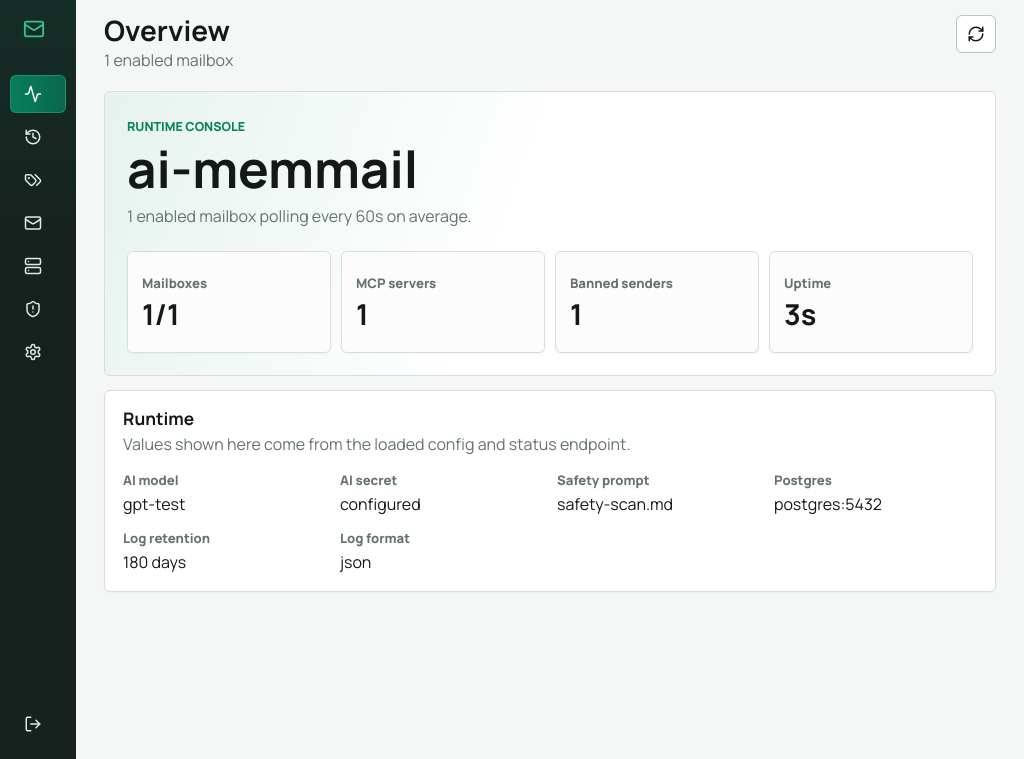
App rules › creates email processing rules from the rules tab
Click the button "Rules".
click(38, 180)  # box [10,161,66,199]
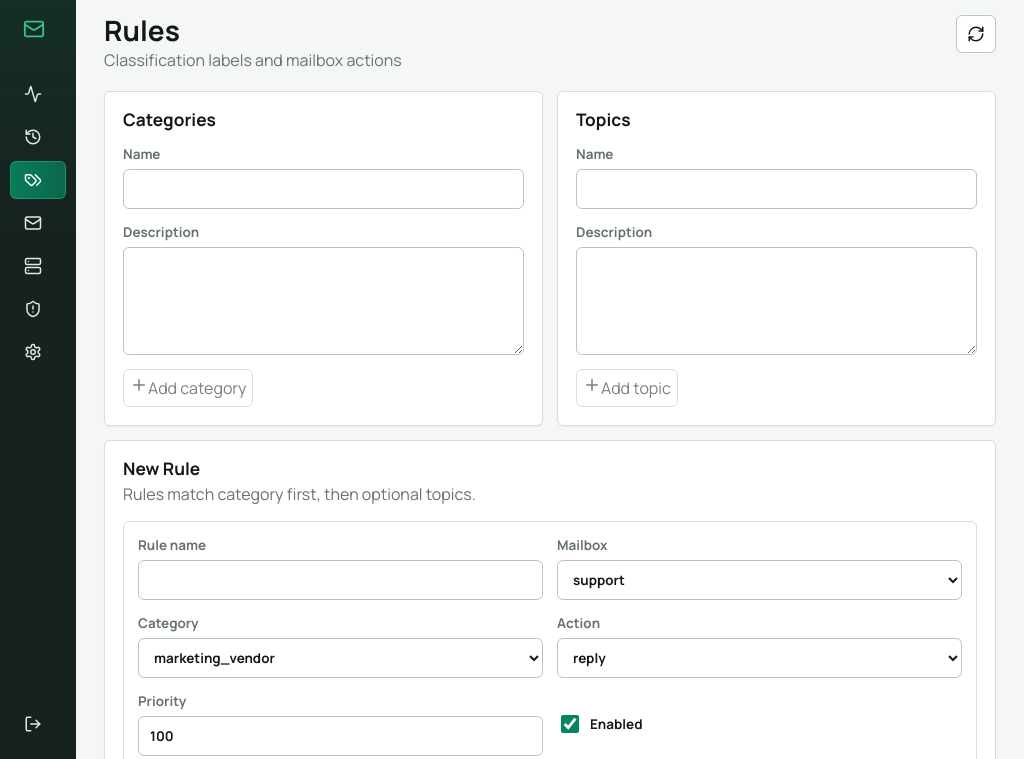
Type "Decline PR agency outreach" into the field labelled "Rule name".
click(340, 580); type("Decline PR agency outreach")  # box [138,560,543,600]
(page scrolled)
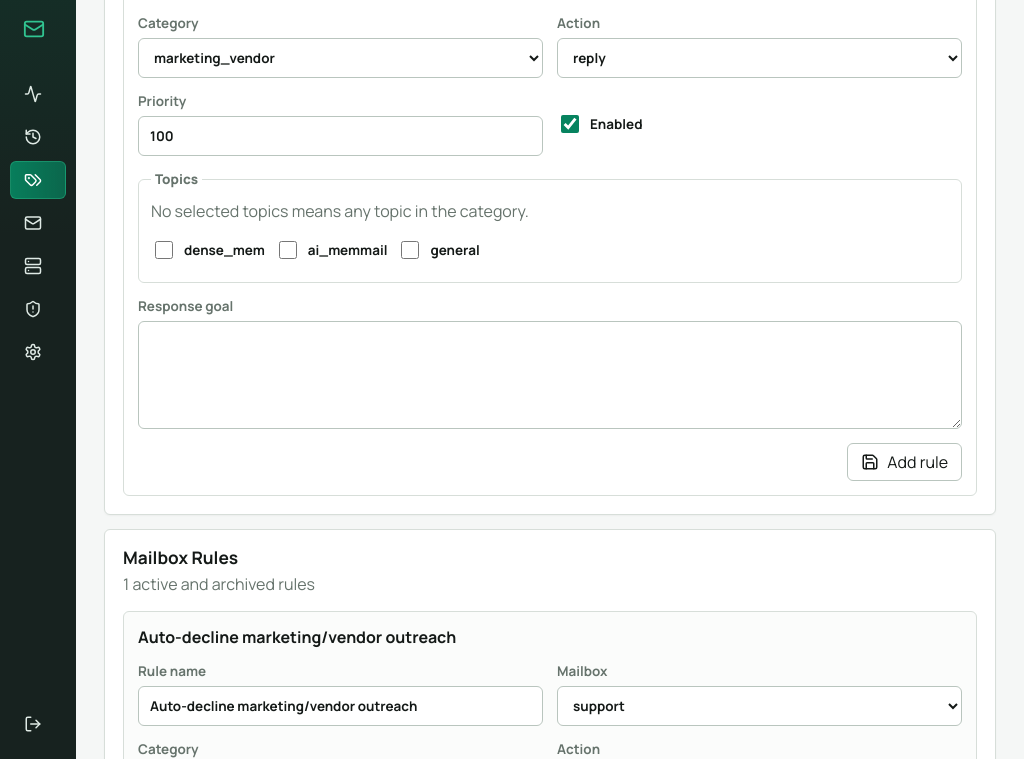
Type "Politely decline paid PR agency services." into the text box labelled "Response goal".
click(550, 376); type("Politely decline paid PR agency services.")  # box [138,322,962,430]
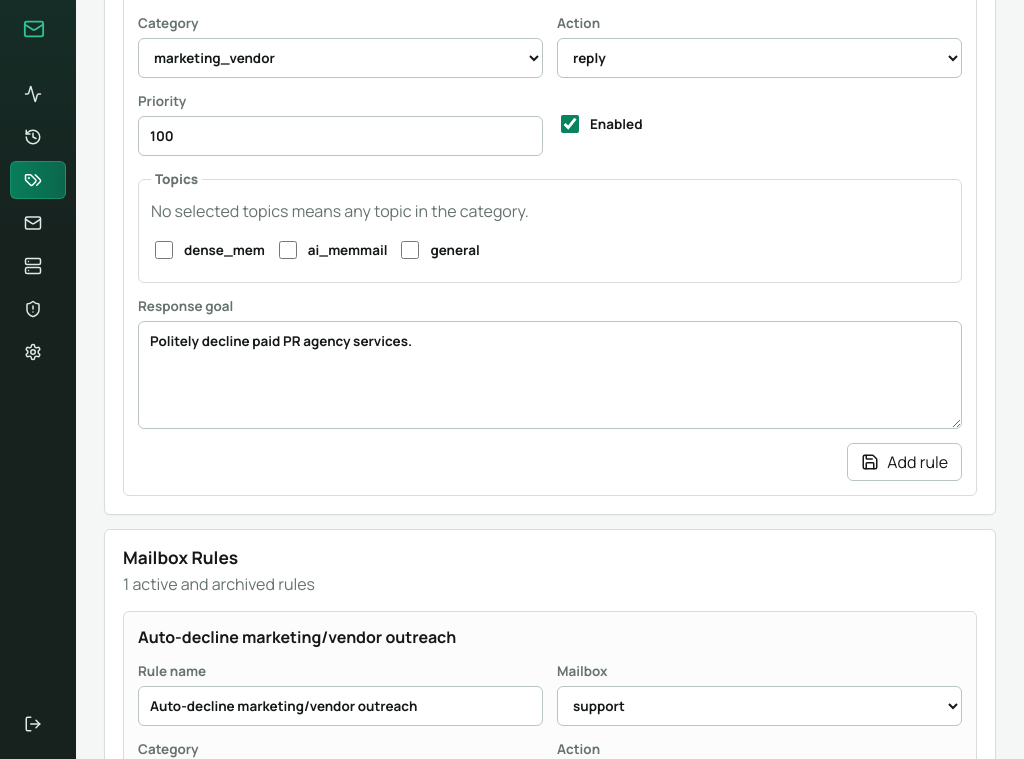
Click the button "Add rule".
click(905, 462)  # box [847,444,962,482]
(page scrolled)
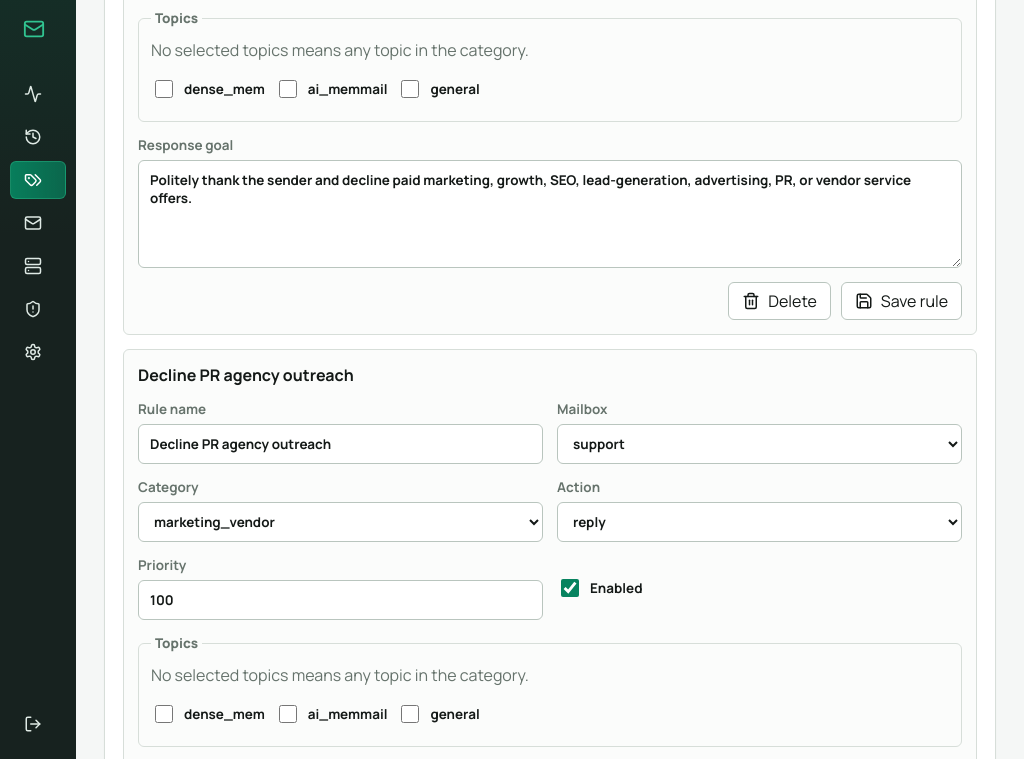
Check: the heading "Decline PR agency outreach" is shown, box [138,364,354,386]
